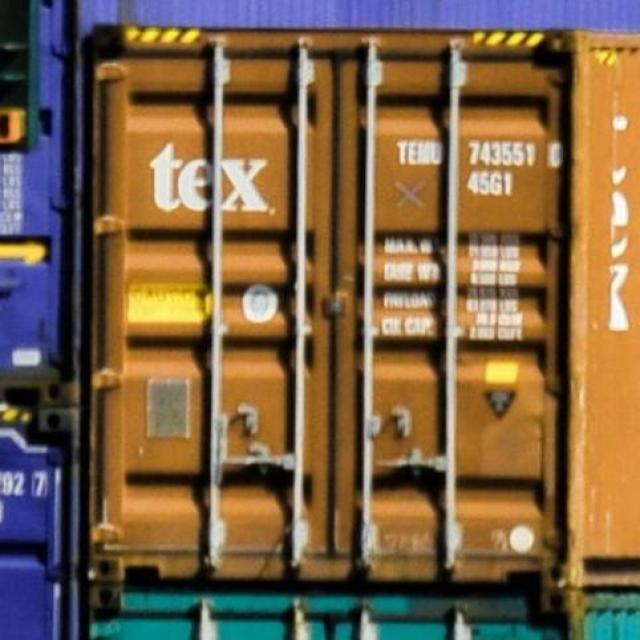ISO: (466, 172, 516, 198)
container_number: (400, 138, 560, 168), (0, 471, 54, 497)
